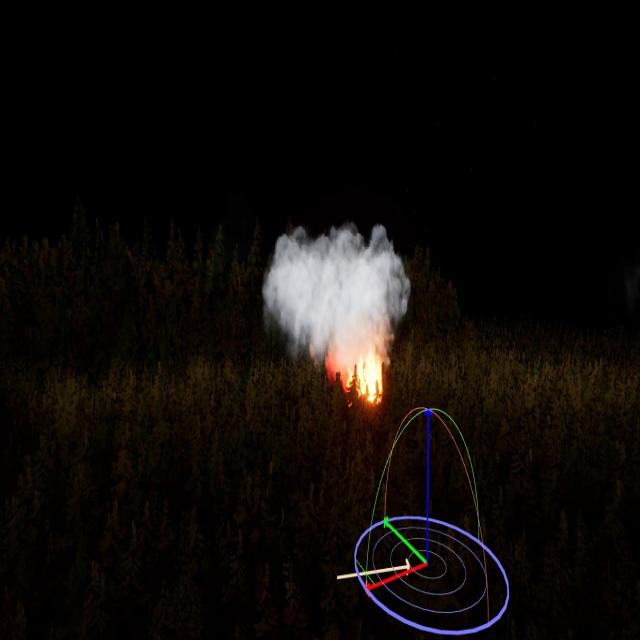fire: (326, 332, 387, 406)
smoke: (262, 217, 412, 385)
